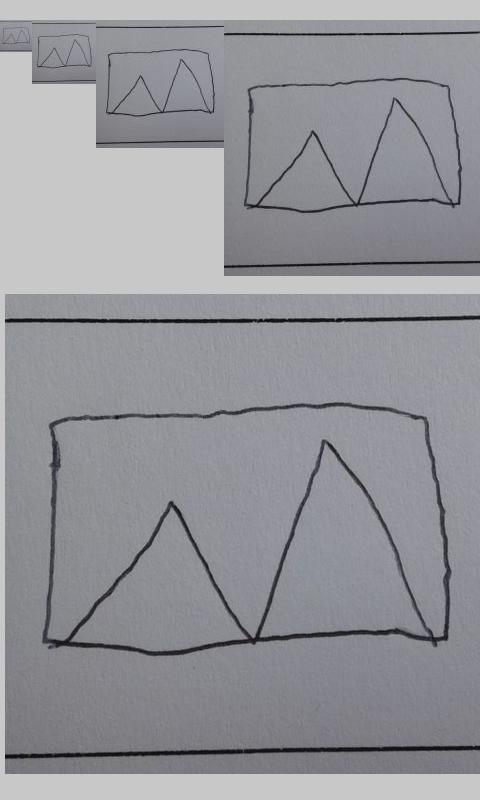image_view: (40, 397, 453, 661), (242, 76, 464, 215), (104, 48, 214, 118), (36, 33, 93, 69), (2, 27, 31, 45)
